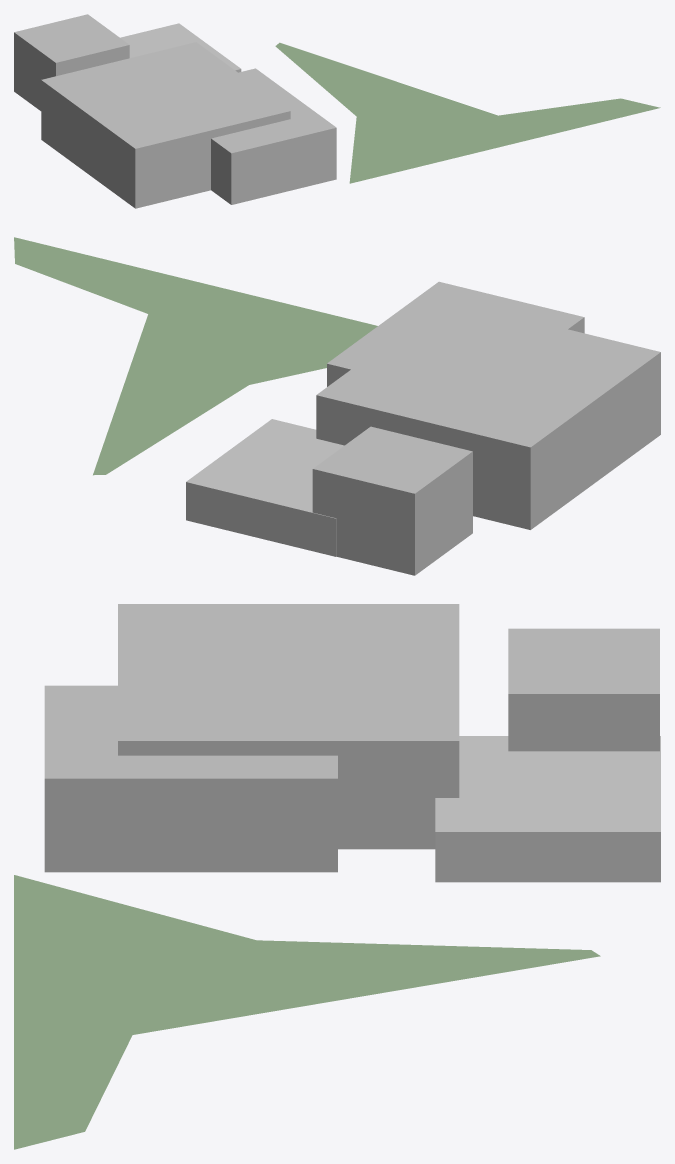
The model's file is 131_76_mid.glb.
3 views of the same model, one above another, from view 1: azimuth 30°, elevation 25°; view 2: azimuth 150°, elevation 25°; view 3: azimuth 270°, elevation 25° (orthographic). The views are drawn at different scales.
Size of the model in its own units: 309 by 35.7 by 193.
